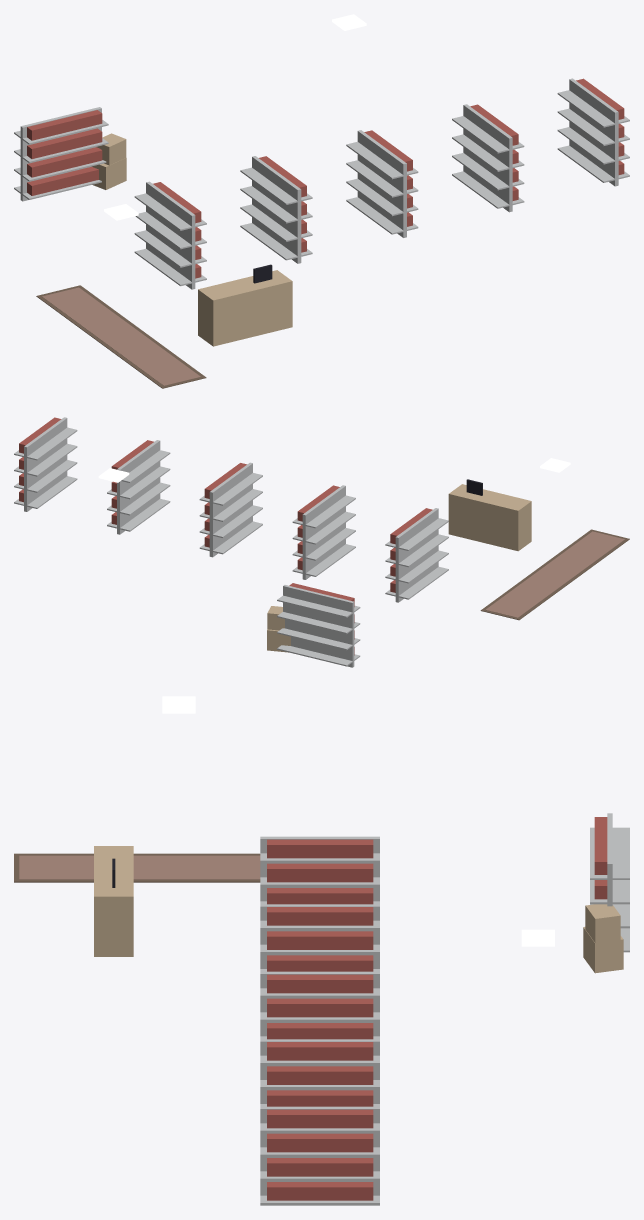
File: fine-s0.glb
3 renders of one model, top to bottom at view 1: azimuth 30°, elevation 25°; view 2: azimuth 150°, elevation 25°; view 3: azimuth 270°, elevation 25°, orthographic. The views are drawn at different scales.
Parts seen in each view (by area): view 1: shelving.000, shop-counter.000, soft-s0, shelf.003, shelf.004, shelf.002, shelf.000, shelf.001, cardboard-box.000; view 2: shelving.000, shop-counter.000, soft-s0, shelf.000, shelf.002, shelf.001, shelf.004, shelf.003, cardboard-box.000; view 3: shelf.004, shelf.000, shelf.002, shelf.001, shelf.003, soft-s0, shop-counter.000, shelving.000, cardboard-box.000.
Part boxes in pixels (x1,y1,x2,y2): shelving.000: (14,107,108,201); shop-counter.000: (198,264,292,346); soft-s0: (36,285,206,388); shelf.003: (452,104,524,212); shelf.004: (557,78,629,186); shelf.002: (346,130,418,237); shelf.000: (134,181,206,289); shelf.001: (240,156,312,263); cardboard-box.000: (92,133,126,189); shelving.000: (277,583,360,667); shop-counter.000: (448,479,531,551); soft-s0: (480,529,629,620); shelf.000: (385,508,448,602); shelf.002: (199,462,262,557); shelf.001: (292,485,355,579); shelf.004: (14,417,77,511); shelf.003: (107,440,170,534); cardboard-box.000: (267,606,290,652); shelf.004: (260,1106,379,1205); shelf.000: (260,836,379,904); shelf.002: (260,971,379,1039); shelf.001: (260,904,379,971); shelf.003: (260,1039,379,1106); soft-s0: (14,853,260,882); shop-counter.000: (94,846,133,956); shelving.000: (590,813,629,952); cardboard-box.000: (583,904,623,973).
Size of the model in its own units: 12.74 by 2.74 by 9.26.
